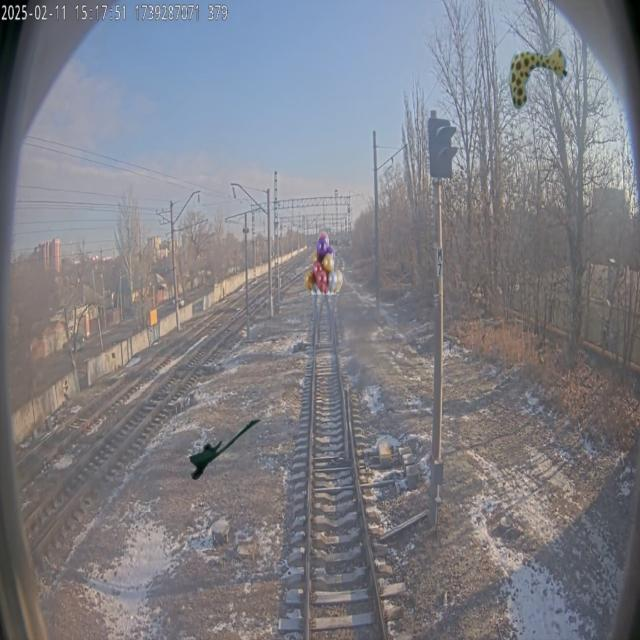balloon: (304, 230, 342, 294)
floating object: (190, 418, 264, 482), (508, 45, 567, 109)
